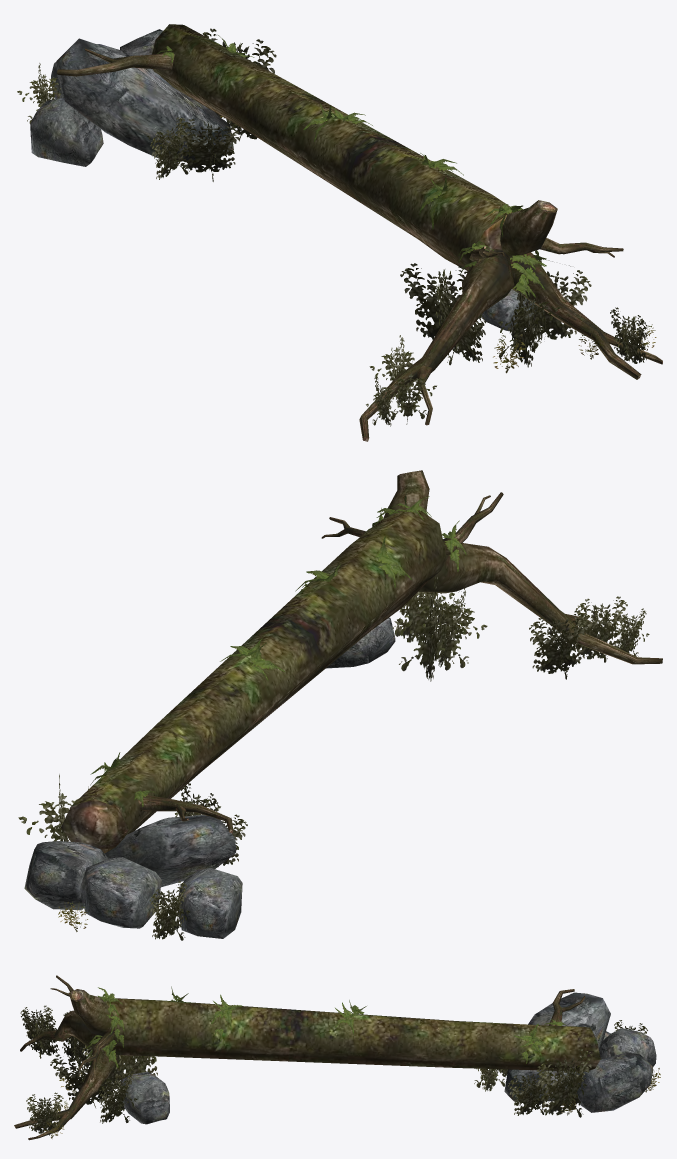
File: fallentree02.glb
3 renders of one model, top to bottom at view 1: azimuth 30°, elevation 25°; view 2: azimuth 150°, elevation 25°; view 3: azimuth 270°, elevation 25°, orthographic. The views are drawn at different scales.
Visible parts, largest first — view 1: 0_ArbreFallen01, 1_Rocks02; view 2: 0_ArbreFallen01, 1_Rocks02; view 3: 0_ArbreFallen01, 1_Rocks02.
Part boxes in pixels (x1=…): 0_ArbreFallen01: x1=17, y1=24, x2=662, y2=441; 1_Rocks02: x1=30, y1=29, x2=535, y2=331; 0_ArbreFallen01: x1=18, y1=470, x2=662, y2=940; 1_Rocks02: x1=24, y1=617, x2=395, y2=938; 0_ArbreFallen01: x1=14, y1=975, x2=660, y2=1140; 1_Rocks02: x1=120, y1=992, x2=656, y2=1124.
Bounding box in the file's own units: 6.44 × 3.35 × 15.52.
Materials: 2 (2 with a texture image).
